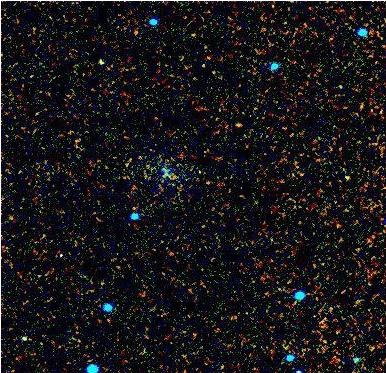star: (224, 106, 254, 136)
